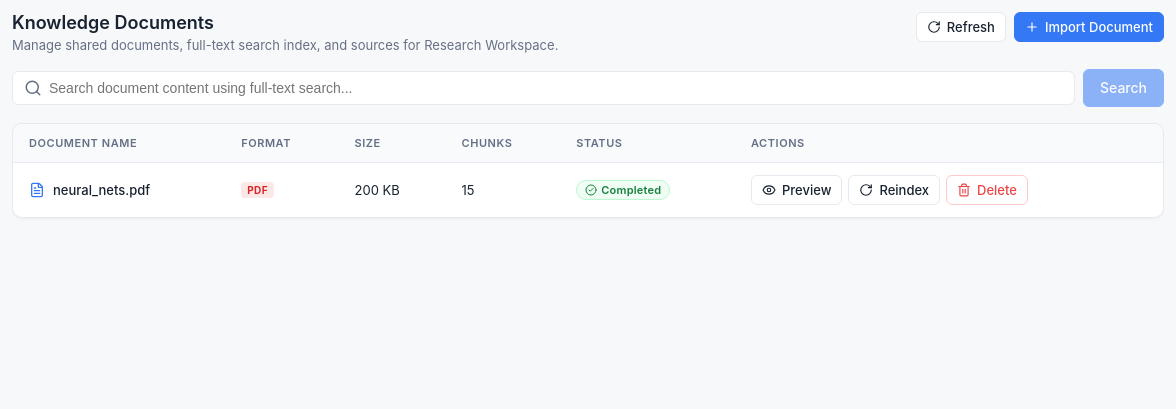
Test: WorkspaceKnowledgeTab (Phase 5 Step 5.11) › 4. Document Search › displays no-results state when search returns empty results
Expected: the text "neural_nets.pdf" is shown, [53,182,150,198]
Type "nonexistent keyword" into the field with test id "input-document-search" at {"x": 544, "y": 88}, box [12,71,1075,105]
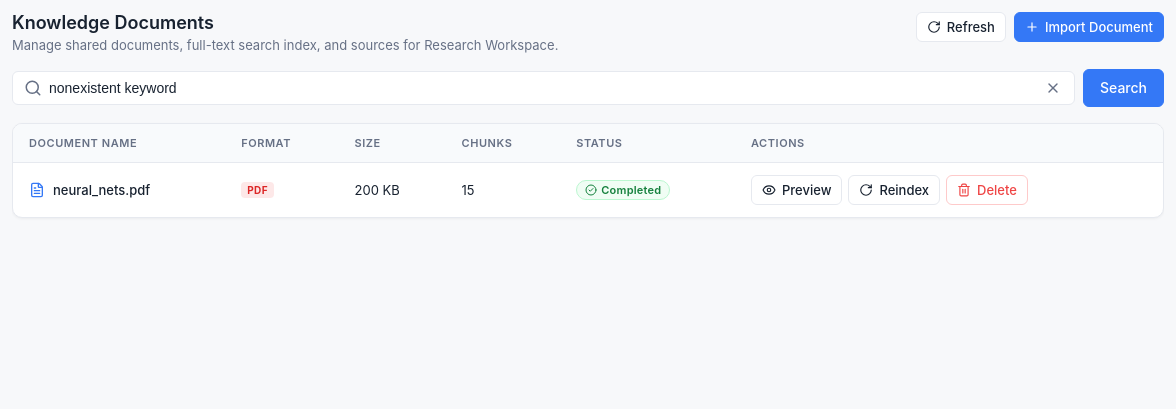
Submit the form with test id "document-search-form", box [12,69,1164,107]
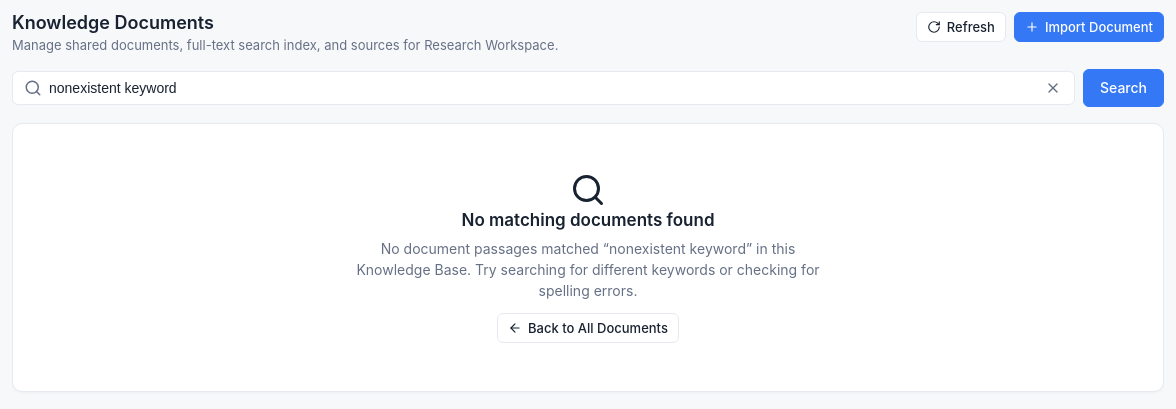
Expected: the element with test id "search-no-results" is shown
Expected: the heading "No matching documents found" is shown, [462,210,714,230]
Note: Clicking "Back to All Documents" clears search view
Click the button with test id "btn-back-to-documents" at {"x": 588, "y": 328}, box [497,313,679,343]
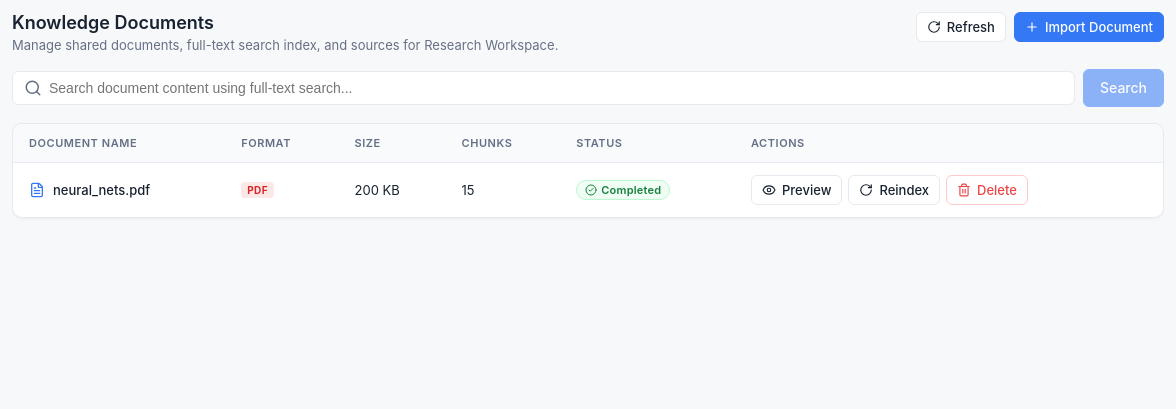
Expected: the element with test id "search-no-results" is gone
Expected: the element with test id "documents-table-wrapper" is shown, [12,123,1164,218]
